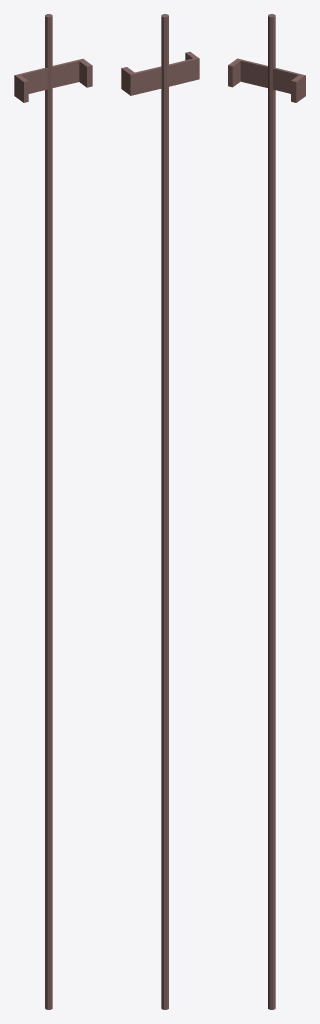
File: kij_do_strzelania.fbx
3 views of the same model, side by side, from view 1: azimuth 30°, elevation 25°; view 2: azimuth 210°, elevation 25°; view 3: azimuth 330°, elevation 25° (orthographic).
Visible parts, largest first — view 1: kij; view 2: kij; view 3: kij.
Part boxes in pixels (x1,y1,x2,y2): kij: [14, 14, 92, 1009]; kij: [121, 14, 199, 1009]; kij: [228, 14, 305, 1009].
Size of the model in its own units: 248 by 3420 by 72.26.
